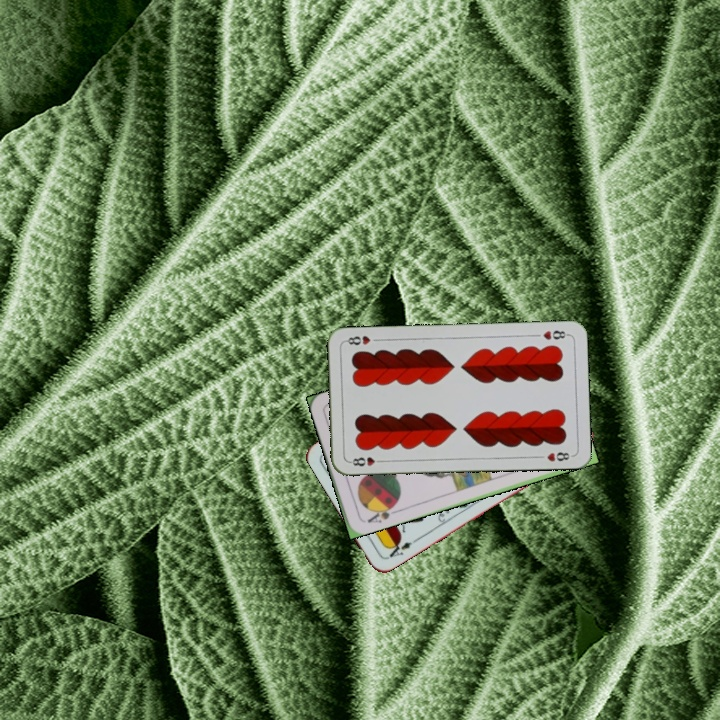EA: (382, 537, 414, 562)
H8: (346, 453, 386, 469), (539, 326, 571, 342)
SA: (363, 500, 400, 526)
